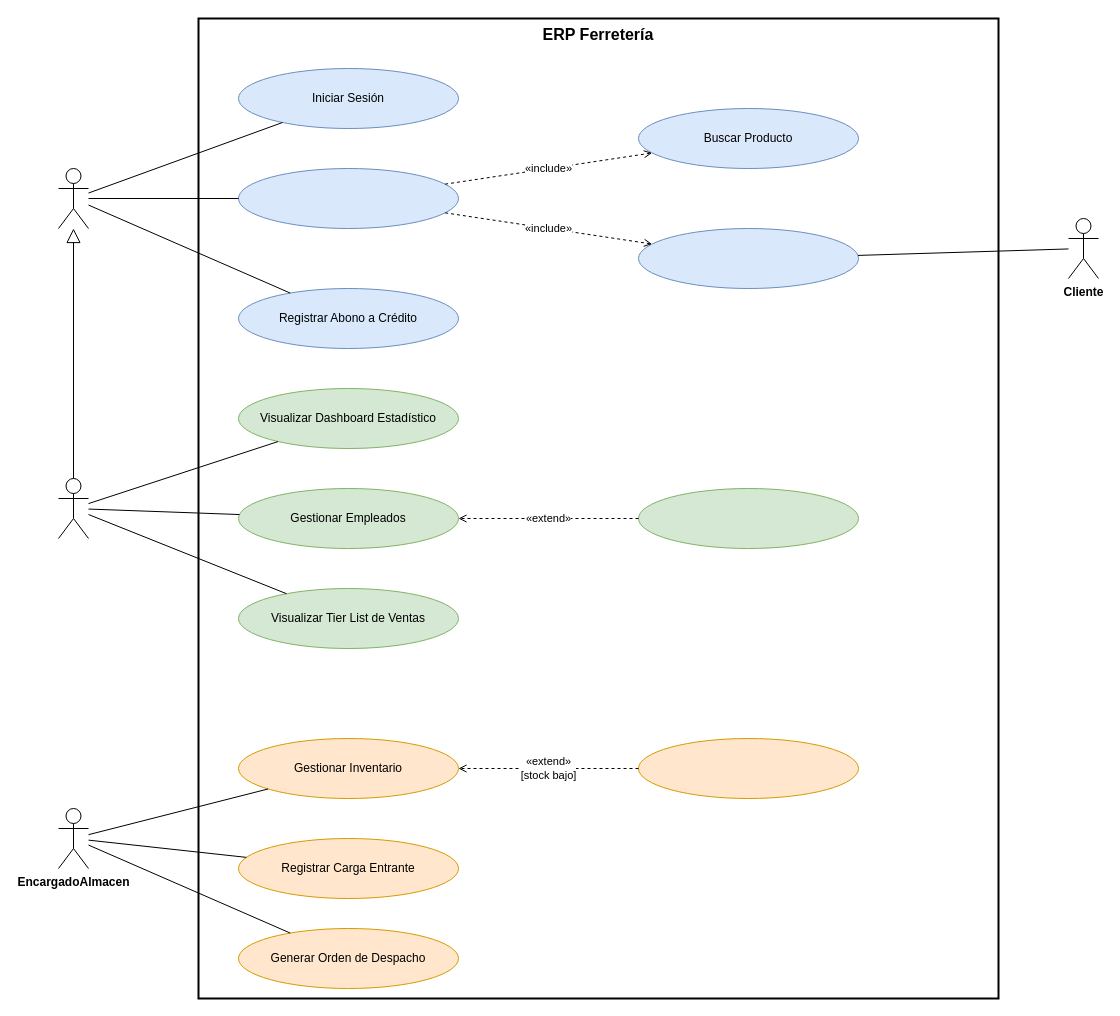
Image size: 1120x1016. Some labels were removed from this diagram. Each missing label, with the centre of its shape:
"Cajero" goes at [73,198].
"Enviar Solicitud WhatsApp" goes at [748,768].
"Generar Recibo PDF" goes at [748,258].
"Realizar Venta" goes at [348,198].
"Restablecer Contraseña" goes at [748,518].
"SuperAdmin" goes at [73,508].
